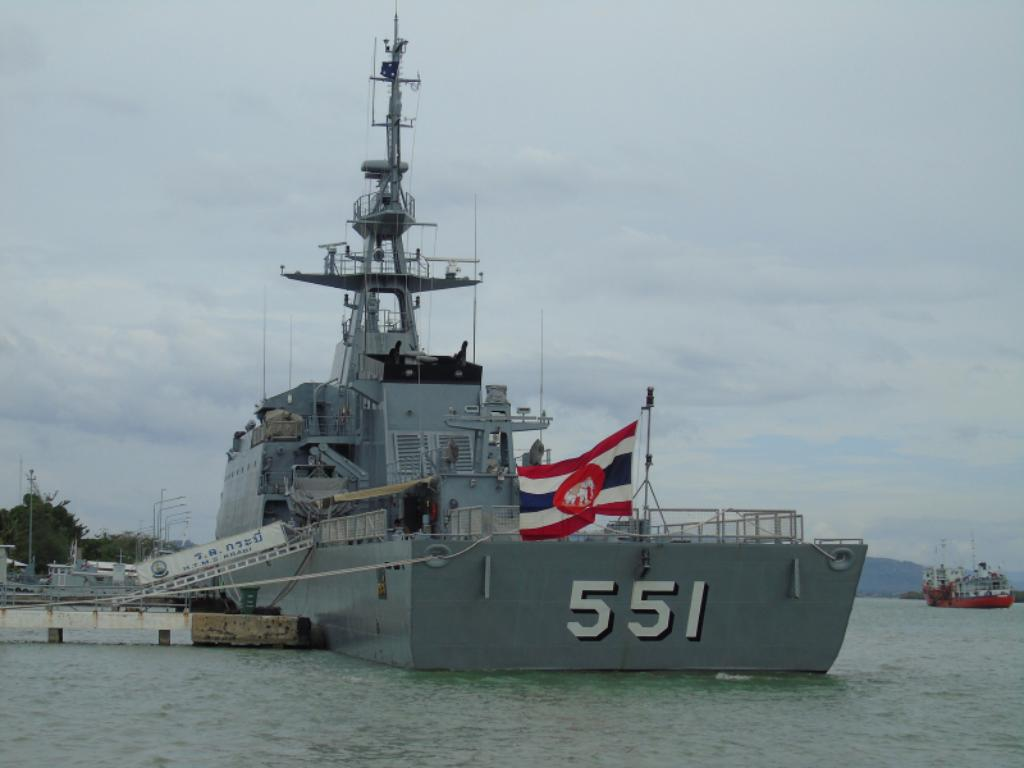Warship: (191, 40, 871, 678)
